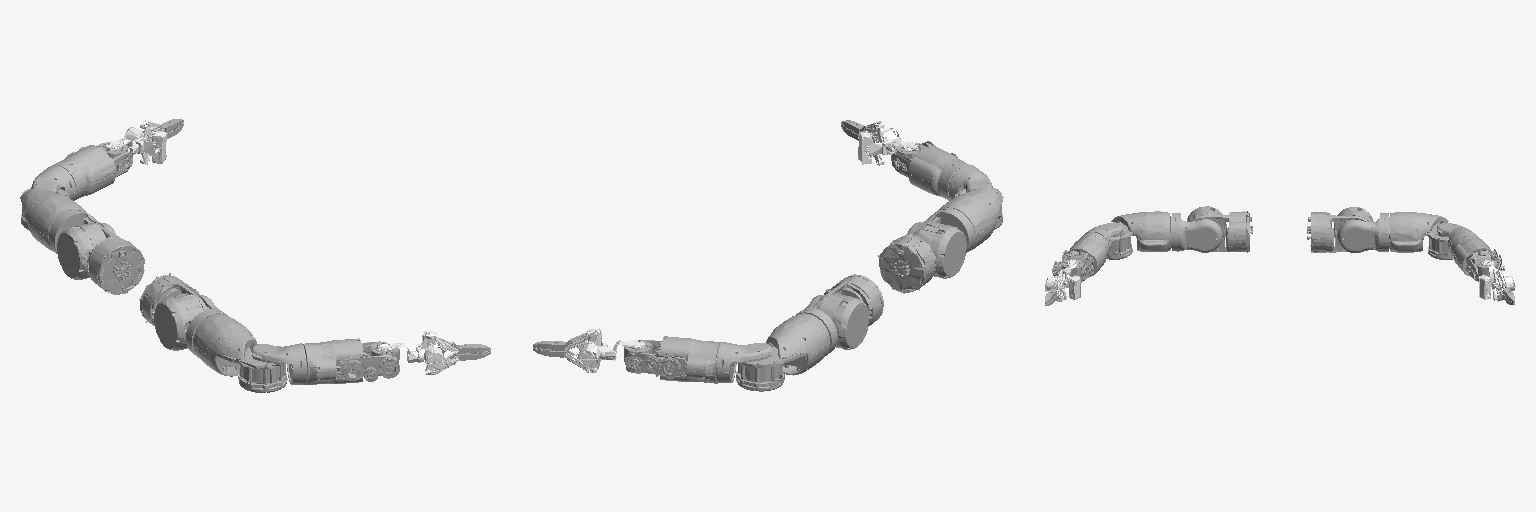
URDF robot description (urdf20260625):
<?xml version="1.0" encoding="utf-8"?>
<!-- This URDF was automatically created by SolidWorks to URDF Exporter! Originally created by Stephen Brawner (brawner@gmail.com) 
     Commit Version: 1.6.0-4-g7f85cfe  Build Version: 1.6.7995.38578
     For more information, please see http://wiki.ros.org/sw_urdf_exporter -->
<robot name="urdf20260625">
  <!-- 平台适配: 虚拟根 shoulder_base = 双肩中点、X前Y左Z上 (与固件
       current_ee_pose 的 shoulder_base 系及旧 urdf20260409 根系一致)。
       CAD 导出的 base_link X 轴指向左肩，绕 Z +90° 归正。 -->
  <link name="shoulder_base" />
  <joint name="shoulder_base_to_base" type="fixed">
    <origin xyz="0 0 0" rpy="0 0 1.5707963267948966" />
    <parent link="shoulder_base" />
    <child link="base_link" />
  </joint>
	<link name="base_link">
		<inertial>
			<origin xyz="-0.00136677250038587 0.01525336556118 -0.252039242581256" rpy="0 0 0" />
			<mass value="51.168731489102" />
			<inertia ixx="0.872300571847214" ixy="0.000504040164506316" ixz="-0.00111035248801718" iyy="0.907366442543216" iyz="-0.00994493874553513" izz="0.435856177367844" />
		</inertial>
		<visual>
			<origin xyz="0 0 0" rpy="0 0 0" />
			<geometry>
				<mesh filename="../meshes/base_link.STL" />
			</geometry>
			<material name="">
				<color rgba="0.752941176470588 0.752941176470588 0.752941176470588 1" />
			</material>
		</visual>
		<collision>
			<origin xyz="0 0 0" rpy="0 0 0" />
			<geometry>
				<mesh filename="../meshes/base_link.STL" />
			</geometry>
		</collision>
	</link>
	<link name="Link-L1">
		<inertial>
			<origin xyz="-0.000353080589249113 -0.00735850953734148 -0.0760852735115676" rpy="0 0 0" />
			<mass value="3.34515073076884" />
			<inertia ixx="0.00370050621252337" ixy="-2.67953252919218E-06" ixz="-1.13793261809255E-06" iyy="0.00471426471400006" iyz="2.41853914874724E-05" izz="0.00481789540995383" />
		</inertial>
		<visual>
			<origin xyz="0 0 0" rpy="0 0 0" />
			<geometry>
				<mesh filename="../meshes/Link-L1.STL" />
			</geometry>
			<material name="">
				<color rgba="0.752941176470588 0.752941176470588 0.752941176470588 1" />
			</material>
		</visual>
		<collision>
			<origin xyz="0 0 0" rpy="0 0 0" />
			<geometry>
				<mesh filename="../meshes/Link-L1.STL" />
			</geometry>
		</collision>
	</link>
	<joint name="l_joint1" type="revolute">
		<origin xyz="0.0908062033645565 0.000340867471260886 0.000439170644705403" rpy="-3.14119105574673 1.56779876198493 -0.00245043650349787" />
		<parent link="base_link" />
		<child link="Link-L1" />
		<axis xyz="0 0 1" />
		<limit lower="-1.8" upper="1.8" effort="0" velocity="5.0" />
	</joint>
	<link name="Link-L2">
		<inertial>
			<origin xyz="0.0568147475924352 4.1086806843435E-05 0.0143494408839413" rpy="0 0 0" />
			<mass value="0.272445845529778" />
			<inertia ixx="0.000273485476383793" ixy="-3.00973170994603E-07" ixz="-5.10047719487156E-05" iyy="0.00040712606013874" iyz="3.49457149784674E-07" izz="0.000502088196175992" />
		</inertial>
		<visual>
			<origin xyz="0 0 0" rpy="0 0 0" />
			<geometry>
				<mesh filename="../meshes/Link-L2.STL" />
			</geometry>
			<material name="">
				<color rgba="0.752941176470588 0.752941176470588 0.752941176470588 1" />
			</material>
		</visual>
		<collision>
			<origin xyz="0 0 0" rpy="0 0 0" />
			<geometry>
				<mesh filename="../meshes/Link-L2.STL" />
			</geometry>
		</collision>
	</link>
	<joint name="l_joint2" type="revolute">
		<origin xyz="0 0.0284999999999999 -0.129" rpy="0 1.56794430345737 -1.57079632679492" />
		<parent link="Link-L1" />
		<child link="Link-L2" />
		<axis xyz="-0.00285201947113489 0 0.999995932984198" />
		<limit lower="0.0" upper="1.8" effort="0" velocity="5.0" />
	</joint>
	<link name="Link-L3">
		<inertial>
			<origin xyz="0.010898222376228 -0.00519756461803678 -0.0711467099557895" rpy="0 0 0" />
			<mass value="1.21328468054917" />
			<inertia ixx="0.00133805334423788" ixy="-8.02307133765624E-06" ixz="2.66778047437126E-05" iyy="0.00185161451466349" iyz="1.741363831093E-05" izz="0.00138910715094074" />
		</inertial>
		<visual>
			<origin xyz="0 0 0" rpy="0 0 0" />
			<geometry>
				<mesh filename="../meshes/Link-L3.STL" />
			</geometry>
			<material name="">
				<color rgba="0.752941176470588 0.752941176470588 0.752941176470588 1" />
			</material>
		</visual>
		<collision>
			<origin xyz="0 0 0" rpy="0 0 0" />
			<geometry>
				<mesh filename="../meshes/Link-L3.STL" />
			</geometry>
		</collision>
	</link>
	<joint name="l_joint3" type="revolute">
		<origin xyz="0.128580759943395 0 0.0281333995880088" rpy="0.000422091865774028 1.56794430320333 -3.14117056000736" />
		<parent link="Link-L2" />
		<child link="Link-L3" />
		<axis xyz="0 0 1" />
		<limit lower="-2.6" upper="1.3" effort="0" velocity="5.0" />
	</joint>
	<link name="Link-L4">
		<inertial>
			<origin xyz="0.0613538748501031 -0.0256646327764551 -0.00282082686056517" rpy="0 0 0" />
			<mass value="0.19652129027228" />
			<inertia ixx="0.000133564553275029" ixy="2.25373605386812E-05" ixz="-1.1505678288265E-05" iyy="0.000146062688637097" iyz="3.81076337433681E-06" izz="0.000166049755213917" />
		</inertial>
		<visual>
			<origin xyz="0 0 0" rpy="0 0 0" />
			<geometry>
				<mesh filename="../meshes/Link-L4.STL" />
			</geometry>
			<material name="">
				<color rgba="0.752941176470588 0.752941176470588 0.752941176470588 1" />
			</material>
		</visual>
		<collision>
			<origin xyz="0 0 0" rpy="0 0 0" />
			<geometry>
				<mesh filename="../meshes/Link-L4.STL" />
			</geometry>
		</collision>
	</link>
	<joint name="l_joint4" type="revolute">
		<origin xyz="0.0299757806794193 0.00400655578844984 -0.145499999976084" rpy="-1.5707963267949 1.56792578328305 -3.13540450703069" />
		<parent link="Link-L3" />
		<child link="Link-L4" />
		<axis xyz="0 0 1" />
		<limit lower="0.25" upper="2.2" effort="0" velocity="5.0" />
	</joint>
	<link name="Link-L5">
		<inertial>
			<origin xyz="0.00042943854504017 0.000328894004102506 -0.0581551524013835" rpy="0 0 0" />
			<mass value="0.783826114590511" />
			<inertia ixx="0.000781167353869761" ixy="1.2827055825101E-07" ixz="3.46545383405664E-05" iyy="0.000763829403394579" iyz="-1.6735575580686E-06" izz="0.000465414135096922" />
		</inertial>
		<visual>
			<origin xyz="0 0 0" rpy="0 0 0" />
			<geometry>
				<mesh filename="../meshes/Link-L5.STL" />
			</geometry>
			<material name="">
				<color rgba="0.752941176470588 0.752941176470588 0.752941176470588 1" />
			</material>
		</visual>
		<collision>
			<origin xyz="0 0 0" rpy="0 0 0" />
			<geometry>
				<mesh filename="../meshes/Link-L5.STL" />
			</geometry>
		</collision>
	</link>
	<joint name="l_joint5" type="revolute">
		<origin xyz="0.10958566506948 -0.0296855520606302 0.00382098573664995" rpy="-1.56780373362721 -0.00618573688719024 1.57447009399675" />
		<parent link="Link-L4" />
		<child link="Link-L5" />
		<axis xyz="0 0 1" />
		<limit lower="-1.8" upper="1.8" effort="0" velocity="5.0" />
	</joint>
	<link name="Link-L6">
		<inertial>
			<origin xyz="0.000651475351347353 -0.000664139671339742 -0.0361335715818294" rpy="0 0 0" />
			<mass value="0.171828878219211" />
			<inertia ixx="6.22789298346272E-05" ixy="5.1526887474169E-08" ixz="1.04734108605314E-08" iyy="8.05565059970107E-05" iyz="1.36943835128012E-06" izz="5.97407812097026E-05" />
		</inertial>
		<visual>
			<origin xyz="0 0 0" rpy="0 0 0" />
			<geometry>
				<mesh filename="../meshes/Link-L6.STL" />
			</geometry>
			<material name="">
				<color rgba="0.752941176470588 0.752941176470588 0.752941176470588 1" />
			</material>
		</visual>
		<collision>
			<origin xyz="0 0 0" rpy="0 0 0" />
			<geometry>
				<mesh filename="../meshes/Link-L6.STL" />
			</geometry>
		</collision>
	</link>
	<joint name="l_joint6" type="revolute">
		<origin xyz="-0.0432937808022679 0.00022583824412778 -0.166451764210895" rpy="-1.02327898634619 -1.56377477221986 1.02326802946257" />
		<parent link="Link-L5" />
		<child link="Link-L6" />
		<axis xyz="0.0028520286758508 0 -0.999995932957221" />
		<limit lower="-1.4" upper="1.4" effort="0" velocity="5.0" />
	</joint>
	<link name="Link-L7">
		<inertial>
			<origin xyz="0.0203733019030148 0.0992842271628971 -0.0296027521729382" rpy="0 0 0" />
			<mass value="0.578476030386484" />
			<inertia ixx="0.000192580608974251" ixy="-6.8117472367579E-06" ixz="-3.33400765153232E-09" iyy="0.000146889255338157" iyz="2.07546707168592E-05" izz="0.000108948790107239" />
		</inertial>
		<visual>
			<origin xyz="0 0 0" rpy="0 0 0" />
			<geometry>
				<mesh filename="../meshes/Link-L7.STL" />
			</geometry>
			<material name="">
				<color rgba="1 1 1 1" />
			</material>
		</visual>
		<collision>
			<origin xyz="0 0 0" rpy="0 0 0" />
			<geometry>
				<mesh filename="../meshes/Link-L7.STL" />
			</geometry>
		</collision>
	</link>
	<joint name="l_joint7" type="revolute">
		<origin xyz="0.00021270929534567 0.0309998101663034 -0.0419996014791647" rpy="-1.56779876198493 1.56834589030834 0" />
		<parent link="Link-L6" />
		<child link="Link-L7" />
		<axis xyz="0 0 -1" />
		<limit lower="-0.68" upper="0.68" effort="0" velocity="5.0" />
	</joint>
	<link name="Link-L10">
		<inertial>
			<origin xyz="-0.00999572381890025 0.0108448910720644 0.000600798396384689" rpy="0 0 0" />
			<mass value="0.0330388002787104" />
			<inertia ixx="5.79171012338883E-06" ixy="-1.60918040432375E-09" ixz="2.83223435634676E-10" iyy="1.76076451286819E-06" iyz="7.15035414498173E-07" izz="6.00060782967479E-06" />
		</inertial>
		<visual>
			<origin xyz="0 0 0" rpy="0 0 0" />
			<geometry>
				<mesh filename="../meshes/Link-L10.STL" />
			</geometry>
			<material name="">
				<color rgba="0.752941176470588 0.752941176470588 0.752941176470588 1" />
			</material>
		</visual>
		<collision>
			<origin xyz="0 0 0" rpy="0 0 0" />
			<geometry>
				<mesh filename="../meshes/Link-L10.STL" />
			</geometry>
		</collision>
	</link>
	<joint name="l_joint10" type="prismatic">
		<origin xyz="0.010071 0.17722 -0.022814" rpy="0 0 0" />
		<parent link="Link-L7" />
		<child link="Link-L10" />
		<axis xyz="0 0 1" />
		<limit lower="0" upper="0.05" effort="0" velocity="0" />
	</joint>
	<link name="Link-L11">
		<inertial>
			<origin xyz="0.00995056881065305 0.0108449372953221 0.000600807427474981" rpy="0 0 0" />
			<mass value="0.0330388001885471" />
			<inertia ixx="5.79171032471982E-06" ixy="1.62833059932085E-09" ixz="-2.91088940641724E-10" iyy="1.76076453500757E-06" iyz="7.1503558290947E-07" izz="6.0006080225455E-06" />
		</inertial>
		<visual>
			<origin xyz="0 0 0" rpy="0 0 0" />
			<geometry>
				<mesh filename="../meshes/Link-L11.STL" />
			</geometry>
			<material name="">
				<color rgba="0.752941176470588 0.752941176470588 0.752941176470588 1" />
			</material>
		</visual>
		<collision>
			<origin xyz="0 0 0" rpy="0 0 0" />
			<geometry>
				<mesh filename="../meshes/Link-L11.STL" />
			</geometry>
		</collision>
	</link>
	<joint name="l_joint11" type="prismatic">
		<origin xyz="0.010071 0.17719 -0.039128" rpy="3.1416 0 -3.1416" />
		<parent link="Link-L7" />
		<child link="Link-L11" />
		<axis xyz="0 0 1" />
		<limit lower="0" upper="0.05" effort="0" velocity="0" />
	</joint>
	<link name="Link-R1">
		<inertial>
			<origin xyz="0.00714253596088871 0.000130030433532186 -0.0753972924422217" rpy="0 0 0" />
			<mass value="3.38920004879691" />
			<inertia ixx="0.00472508049817541" ixy="1.98426104829919E-06" ixz="-2.21609987592381E-05" iyy="0.00370681033584223" iyz="9.76648974975413E-06" izz="0.00483448392892817" />
		</inertial>
		<visual>
			<origin xyz="0 0 0" rpy="0 0 0" />
			<geometry>
				<mesh filename="../meshes/Link-R1.STL" />
			</geometry>
			<material name="">
				<color rgba="0.752941176470588 0.752941176470588 0.752941176470588 1" />
			</material>
		</visual>
		<collision>
			<origin xyz="0 0 0" rpy="0 0 0" />
			<geometry>
				<mesh filename="../meshes/Link-R1.STL" />
			</geometry>
		</collision>
	</link>
	<joint name="r_joint1" type="revolute">
		<origin xyz="-0.0909998090029052 0.000186444187021531 0.00192760271844504" rpy="1.5707963267949 0 1.56874748814143" />
		<parent link="base_link" />
		<child link="Link-R1" />
		<axis xyz="0 0 1" />
		<limit lower="-1.8" upper="1.8" effort="0" velocity="5.0" />
	</joint>
	<link name="Link-R2">
		<inertial>
			<origin xyz="-0.0714137898079764 6.73820603511177E-05 0.0137452578374847" rpy="0 0 0" />
			<mass value="0.575844145100967" />
			<inertia ixx="0.000630549468159362" ixy="1.40503169424521E-06" ixz="0.000121475082110543" iyy="0.000957466071672177" iyz="1.14869979824178E-06" izz="0.00116456266628336" />
		</inertial>
		<visual>
			<origin xyz="0 0 0" rpy="0 0 0" />
			<geometry>
				<mesh filename="../meshes/Link-R2.STL" />
			</geometry>
			<material name="">
				<color rgba="0.752941176470588 0.752941176470588 0.752941176470588 1" />
			</material>
		</visual>
		<collision>
			<origin xyz="0 0 0" rpy="0 0 0" />
			<geometry>
				<mesh filename="../meshes/Link-R2.STL" />
			</geometry>
		</collision>
	</link>
	<joint name="r_joint2" type="revolute">
		<origin xyz="-0.0284999999999959 0 -0.128999999999997" rpy="3.14159265358974 -1.56874748814136 0" />
		<parent link="Link-R1" />
		<child link="Link-R2" />
		<axis xyz="0.00204883722004788 0 0.99999790113082" />
		<limit lower="-1.8" upper="0.0" effort="0" velocity="5.0" />
	</joint>
	<link name="Link-R3">
		<inertial>
			<origin xyz="0.00977048651989994 0.000602751509031996 -0.0723830373540614" rpy="0 0 0" />
			<mass value="1.69067034132472" />
			<inertia ixx="0.00229236940634867" ixy="6.42466973863562E-06" ixz="8.73658430749184E-05" iyy="0.00334698682868202" iyz="-3.50937972787629E-05" izz="0.00215858761600077" />
		</inertial>
		<visual>
			<origin xyz="0 0 0" rpy="0 0 0" />
			<geometry>
				<mesh filename="../meshes/Link-R3.STL" />
			</geometry>
			<material name="">
				<color rgba="0.752941176470588 0.752941176470588 0.752941176470588 1" />
			</material>
		</visual>
		<collision>
			<origin xyz="0 0 0" rpy="0 0 0" />
			<geometry>
				<mesh filename="../meshes/Link-R3.STL" />
			</geometry>
		</collision>
	</link>
	<joint name="r_joint3" type="revolute">
		<origin xyz="-0.128441338434539 0 0.0287632157650045" rpy="3.14159265358979 1.56874748814142 3.14159265358979" />
		<parent link="Link-R2" />
		<child link="Link-R3" />
		<axis xyz="0 0 1" />
		<limit lower="-1.3" upper="2.6" effort="0" velocity="5.0" />
	</joint>
	<link name="Link-R4">
		<inertial>
			<origin xyz="0.0560756798616199 0.0241636871137268 0.0307240686237148" rpy="0 0 0" />
			<mass value="0.291767570729007" />
			<inertia ixx="0.00020990248761981" ixy="-5.08786463649829E-05" ixz="-2.61081024180218E-05" iyy="0.000228915708844684" iyz="-8.70458918226234E-06" izz="0.000320836209613034" />
		</inertial>
		<visual>
			<origin xyz="0 0 0" rpy="0 0 0" />
			<geometry>
				<mesh filename="../meshes/Link-R4.STL" />
			</geometry>
			<material name="">
				<color rgba="0.752941176470588 0.752941176470588 0.752941176470588 1" />
			</material>
		</visual>
		<collision>
			<origin xyz="0 0 0" rpy="0 0 0" />
			<geometry>
				<mesh filename="../meshes/Link-R4.STL" />
			</geometry>
		</collision>
	</link>
	<joint name="r_joint4" type="revolute">
		<origin xyz="0.029999999999999 -0.0210000000000026 -0.1455" rpy="-1.5707963267949 1.56874748814136 0" />
		<parent link="Link-R3" />
		<child link="Link-R4" />
		<axis xyz="0 0 1" />
		<limit lower="-2.2" upper="-0.25" effort="0" velocity="5.0" />
	</joint>
	<link name="Link-R5">
		<inertial>
			<origin xyz="-0.00399334589460734 8.01387350592708E-05 -0.0495057398332737" rpy="0 0 0" />
			<mass value="1.03110071311636" />
			<inertia ixx="0.00116140920112647" ixy="1.07918276985244E-07" ixz="5.58987895771028E-05" iyy="0.00116652632220896" iyz="3.66037060171801E-07" izz="0.000642770280611919" />
		</inertial>
		<visual>
			<origin xyz="0 0 0" rpy="0 0 0" />
			<geometry>
				<mesh filename="../meshes/Link-R5.STL" />
			</geometry>
			<material name="">
				<color rgba="0.752941176470588 0.752941176470588 0.752941176470588 1" />
			</material>
		</visual>
		<collision>
			<origin xyz="0 0 0" rpy="0 0 0" />
			<geometry>
				<mesh filename="../meshes/Link-R5.STL" />
			</geometry>
		</collision>
	</link>
	<joint name="r_joint5" type="revolute">
		<origin xyz="0.109438305057223 0.0302242847095203 0.0210000000000005" rpy="1.5707963267949 0 -1.56874748814143" />
		<parent link="Link-R4" />
		<child link="Link-R5" />
		<axis xyz="-0 -0 1" />
		<limit lower="-1.8" upper="1.8" effort="0" velocity="5.0" />
	</joint>
	<link name="Link-R6">
		<inertial>
			<origin xyz="7.5840170720376E-05 0.000633780018061803 -0.0366526823551599" rpy="0 0 0" />
			<mass value="0.169440433622254" />
			<inertia ixx="6.20575009334535E-05" ixy="-3.06181846905168E-09" ixz="-4.7211956383079E-09" iyy="8.03415202885166E-05" iyz="-1.33646909887578E-06" izz="5.93197368414464E-05" />
		</inertial>
		<visual>
			<origin xyz="0 0 0" rpy="0 0 0" />
			<geometry>
				<mesh filename="../meshes/Link-R6.STL" />
			</geometry>
			<material name="">
				<color rgba="0.752941176470588 0.752941176470588 0.752941176470588 1" />
			</material>
		</visual>
		<collision>
			<origin xyz="0 0 0" rpy="0 0 0" />
			<geometry>
				<mesh filename="../meshes/Link-R6.STL" />
			</geometry>
		</collision>
	</link>
	<joint name="r_joint6" type="revolute">
		<origin xyz="-0.0419999541412836 6.20655304965634E-05 -0.166" rpy="3.14159265358973 -1.56874748814147 -3.14159265358958" />
		<parent link="Link-R5" />
		<child link="Link-R6" />
		<axis xyz="-0.00204883498297027 -0.00147775072626867 -0.999996809258911" />
		<limit lower="-1.4" upper="1.4" effort="0" velocity="5.0" />
	</joint>
	<link name="Link-R7">
		<inertial>
			<origin xyz="0.0203323691003578 -0.0992268506649644 -0.0292348218429313" rpy="0 0 0" />
			<mass value="0.578476028474637" />
			<inertia ixx="0.000192586073212184" ixy="6.79385218148897E-06" ixz="1.1467213259454E-08" iyy="0.000146917852088684" iyz="-2.04689083349517E-05" izz="0.000108914729071732" />
		</inertial>
		<visual>
			<origin xyz="0 0 0" rpy="0 0 0" />
			<geometry>
				<mesh filename="../meshes/Link-R7.STL" />
			</geometry>
			<material name="">
				<color rgba="1 1 1 1" />
			</material>
		</visual>
		<collision>
			<origin xyz="0 0 0" rpy="0 0 0" />
			<geometry>
				<mesh filename="../meshes/Link-R7.STL" />
			</geometry>
		</collision>
	</link>
	<joint name="r_joint7" type="revolute">
		<origin xyz="-8.59572114937368E-05 -0.0310620316824 -0.0419540558125098" rpy="-0.945942892366139 1.56827016655082 -2.51673770532328" />
		<parent link="Link-R6" />
		<child link="Link-R7" />
		<axis xyz="0 0 -1" />
		<limit lower="-0.68" upper="0.68" effort="0" velocity="5.0" />
	</joint>
	<link name="Link-R10">
		<inertial>
			<origin xyz="-0.0108204294410833 0.010022117674395 0.000600807484317789" rpy="0 0 0" />
			<mass value="0.0330388002578878" />
			<inertia ixx="1.76078076305793E-06" ixy="8.2491277874378E-09" ixz="-7.15034037722488E-07" iyy="5.79169392919372E-06" iyz="1.46105885170789E-09" izz="6.00060786399899E-06" />
		</inertial>
		<visual>
			<origin xyz="0 0 0" rpy="0 0 0" />
			<geometry>
				<mesh filename="../meshes/Link-R10.STL" />
			</geometry>
			<material name="">
				<color rgba="0.752941176470588 0.752941176470588 0.752941176470588 1" />
			</material>
		</visual>
		<collision>
			<origin xyz="0 0 0" rpy="0 0 0" />
			<geometry>
				<mesh filename="../meshes/Link-R10.STL" />
			</geometry>
		</collision>
	</link>
	<joint name="r_joint10" type="prismatic">
		<origin xyz="0.01 -0.1771 -0.023043" rpy="0 0 1.5728" />
		<parent link="Link-R7" />
		<child link="Link-R10" />
		<axis xyz="0 0 1" />
		<limit lower="0" upper="0.05" effort="0" velocity="0" />
	</joint>
	<link name="Link-R11">
		<inertial>
			<origin xyz="-0.0108204291414254 -0.0100222629256101 0.000600807481746443" rpy="0 0 0" />
			<mass value="0.0330388002535311" />
			<inertia ixx="1.76078083863972E-06" ixy="-8.26827474753848E-09" ixz="-7.15034023148953E-07" iyy="5.79169385747562E-06" iyz="-1.46891700557478E-09" izz="6.00060786983914E-06" />
		</inertial>
		<visual>
			<origin xyz="0 0 0" rpy="0 0 0" />
			<geometry>
				<mesh filename="../meshes/Link-R11.STL" />
			</geometry>
			<material name="">
				<color rgba="0.752941176470588 0.752941176470588 0.752941176470588 1" />
			</material>
		</visual>
		<collision>
			<origin xyz="0 0 0" rpy="0 0 0" />
			<geometry>
				<mesh filename="../meshes/Link-R11.STL" />
			</geometry>
		</collision>
	</link>
	<joint name="r_joint11" type="prismatic">
		<origin xyz="0.01 -0.17715 -0.039043" rpy="3.1416 0 1.5728" />
		<parent link="Link-R7" />
		<child link="Link-R11" />
		<axis xyz="0 0 1" />
		<limit lower="0" upper="0.05" effort="0" velocity="0" />
	</joint>
</robot>

--- Facts derived from the render (not from the file) ---
Views: 3 orthographic renders of the robot side by side, from view 1: azimuth 30°, elevation 25°; view 2: azimuth 150°, elevation 25°; view 3: azimuth 270°, elevation 25°.
Robot: urdf20260625 — 20 links, 19 joints (14 revolute, 4 prismatic, 1 fixed); root link shoulder_base; default pose: joints at zero except 2 at the middle of their limits (l_joint4 = 1.23, r_joint4 = -1.23).
Visible links, largest first — view 1: Link-L1, Link-R3, Link-R1, Link-R5, Link-L5, Link-L3, Link-L7, Link-R7, Link-R4, Link-L2, Link-L4, Link-R6 (+1 smaller); view 2: Link-R1, Link-L3, Link-L1, Link-L5, Link-R5, Link-R3, Link-L7, Link-R7, Link-L4, Link-R4, Link-R2, Link-L2; view 3: Link-R3, Link-L3, Link-L2, Link-L1, Link-R1, Link-R2, Link-L5, Link-R5, Link-L7, Link-R7.
Link boxes in pixels (<box>): Link-L1: <box>57,223,144,294</box>; Link-R3: <box>193,314,287,392</box>; Link-R1: <box>139,273,206,350</box>; Link-R5: <box>292,338,396,384</box>; Link-L5: <box>52,143,132,200</box>; Link-L3: <box>20,188,84,251</box>; Link-L7: <box>106,120,166,165</box>; Link-R7: <box>378,331,458,374</box>; Link-R4: <box>251,343,306,384</box>; Link-L2: <box>49,209,116,253</box>; Link-L4: <box>31,165,75,199</box>; Link-R6: <box>371,342,399,378</box>; Link-R1: <box>878,222,966,293</box>; Link-L3: <box>736,313,829,391</box>; Link-L1: <box>816,274,883,349</box>; Link-L5: <box>625,336,720,383</box>; Link-R5: <box>891,145,968,200</box>; Link-R3: <box>939,188,1003,250</box>; Link-L7: <box>564,328,645,372</box>; Link-R7: <box>858,121,918,165</box>; Link-L4: <box>716,342,771,382</box>; Link-R4: <box>948,165,992,198</box>; Link-R2: <box>907,208,974,253</box>; Link-L2: <box>796,295,837,355</box>; Link-R3: <box>1107,211,1171,259</box>; Link-L3: <box>1389,212,1453,259</box>; Link-L2: <box>1337,213,1388,252</box>; Link-L1: <box>1307,207,1373,252</box>; Link-R1: <box>1187,206,1252,252</box>; Link-R2: <box>1172,213,1222,252</box>; Link-L5: <box>1451,232,1501,280</box>; Link-R5: <box>1059,232,1109,280</box>; Link-L7: <box>1479,259,1515,301</box>; Link-R7: <box>1045,260,1080,301</box>.
Size in the robot's own frame: 0.5769 by 1.4 by 0.126 metres.
18 mesh visuals loaded from 19 distinct referenced files (18 binary STL); not drawn: 1 (reference not matched to a file when rendering).
